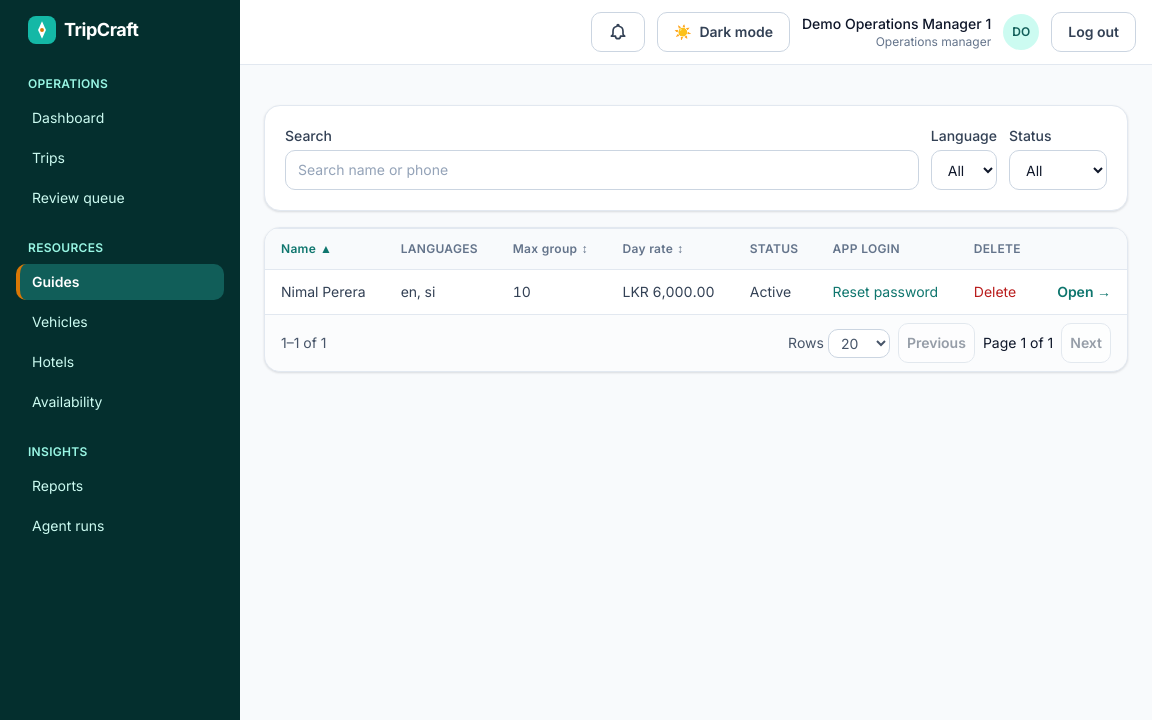
Test case: GuidesPage › shows the API message when deleting a held guide is refused (409)
This screenshot has width=1152, height=720.
Click the button with aria-label "Delete Nimal Perera": (995, 292) [974, 282, 1016, 302]
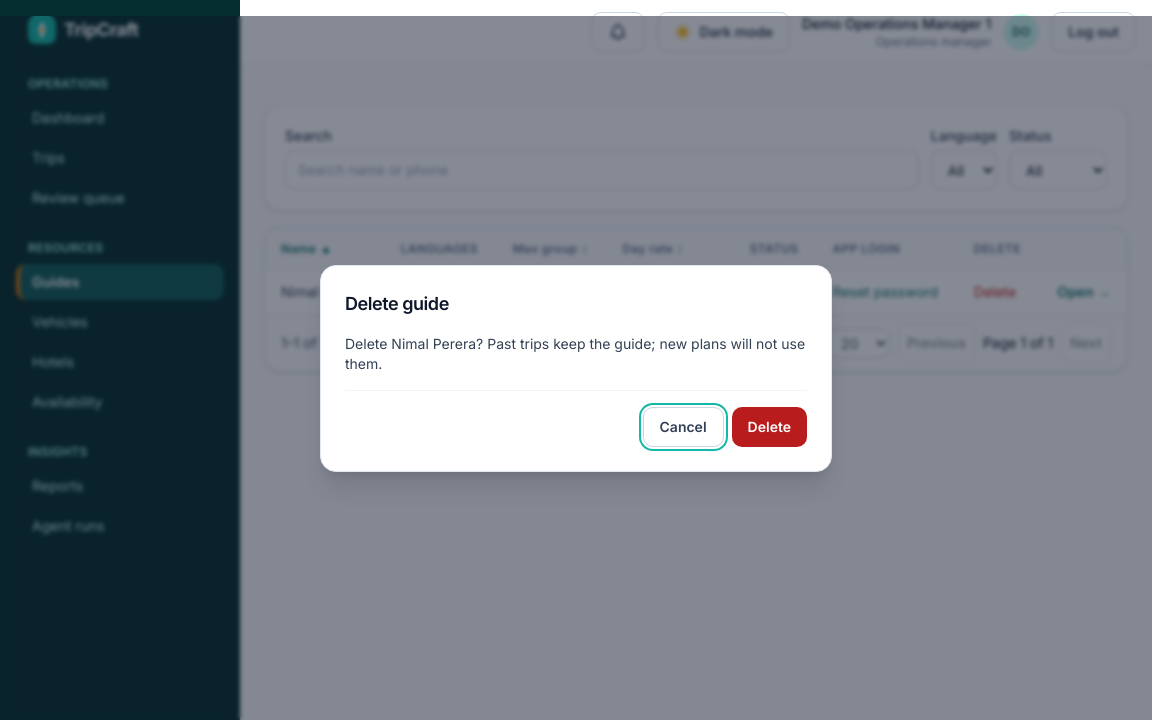
Click the button "Delete": (769, 426) [732, 406, 807, 446]
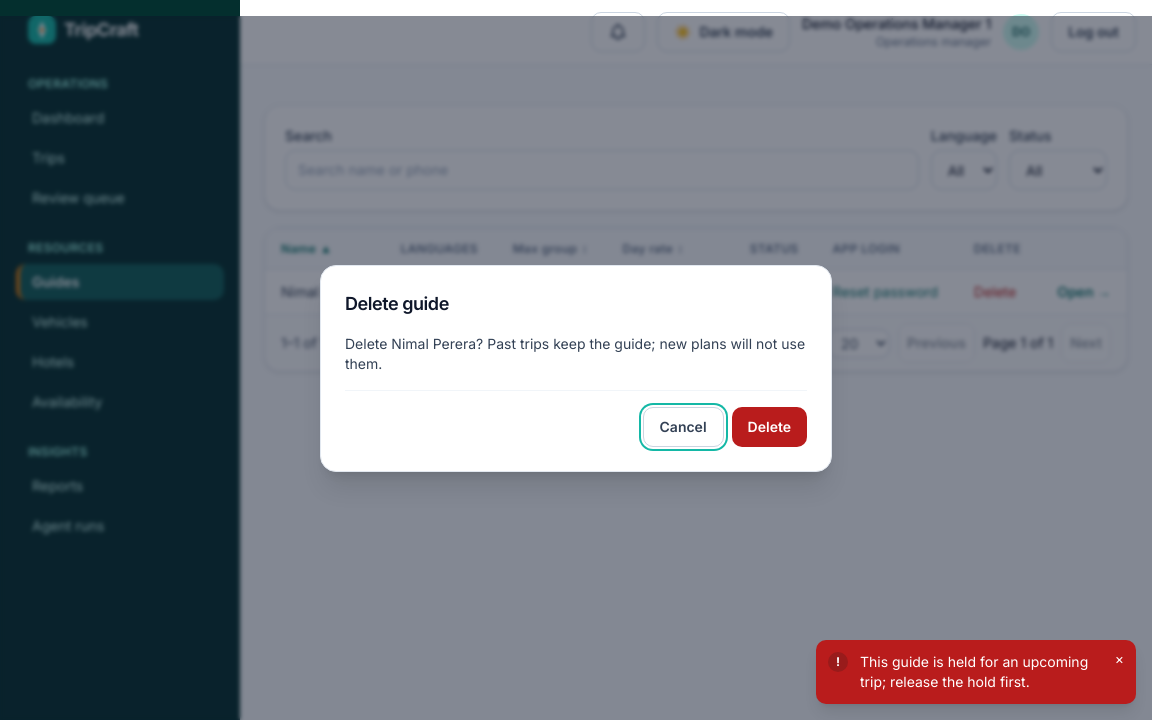
Result: the text "held for an upcoming trip" is shown at [860, 653, 1088, 690]
